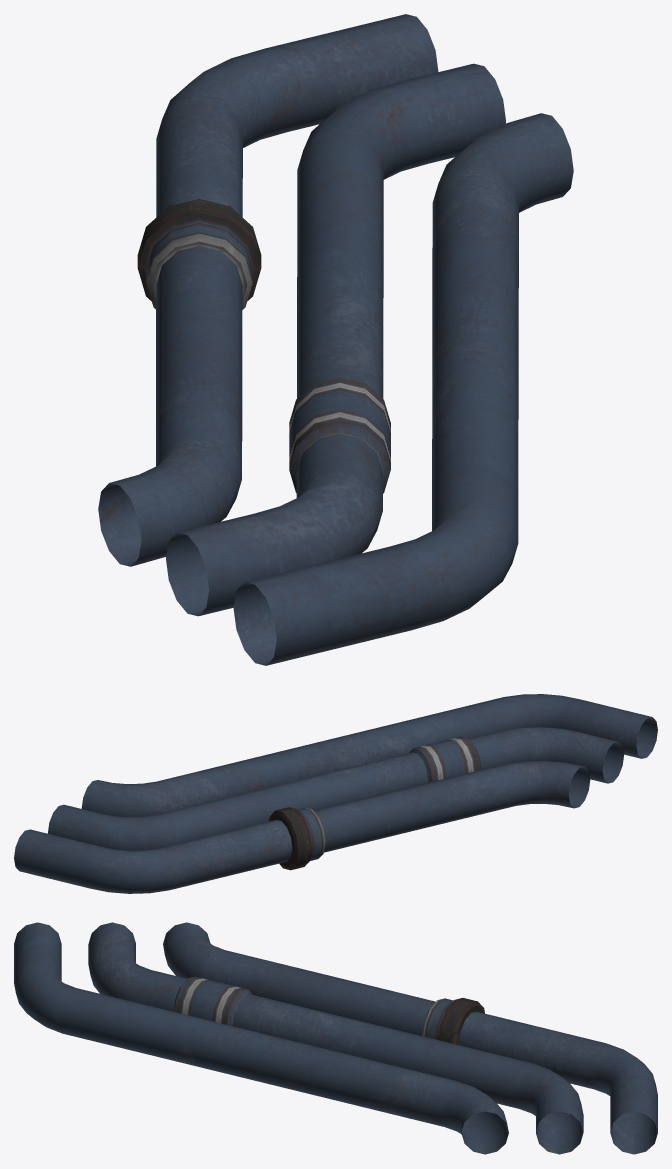
Rendered from Pipe3_Courner6_L0.fbx.
3 views of the same model, one above another, from view 1: azimuth 30°, elevation 25°; view 2: azimuth 150°, elevation 25°; view 3: azimuth 270°, elevation 25° (orthographic). The views are drawn at different scales.
Visible parts, largest first — view 1: PIpe5_Courner6_L0; view 2: PIpe5_Courner6_L0; view 3: PIpe5_Courner6_L0.
Part boxes in pixels (x1,y1,x2,y2): PIpe5_Courner6_L0: [98, 14, 573, 665]; PIpe5_Courner6_L0: [14, 694, 657, 893]; PIpe5_Courner6_L0: [14, 922, 657, 1154].
Bounding box in the file's own units: 100 × 15.23 × 144.
